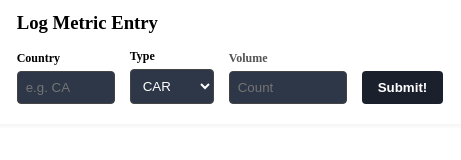
TrafficForm › error handeling
Type "CA" into the field with placeholder "e.g. CA" at (66, 88), box [17,71,115,104]
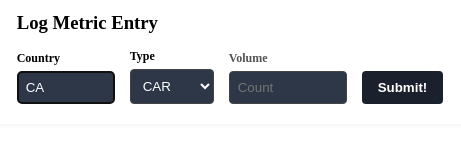
Type "1000" into the number field with placeholder "Count" at (288, 88), box [229,71,347,104]
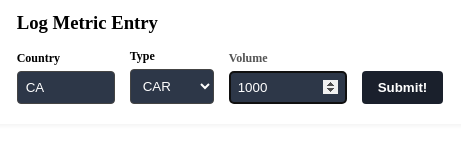
Click the button "Submit!" at (402, 88), box [362,71,443,104]
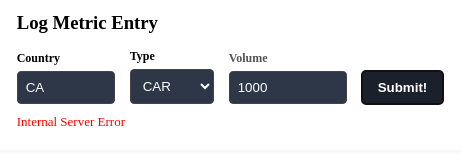
Result: the text "Internal Server Error" is shown at [17,114,125,129]
